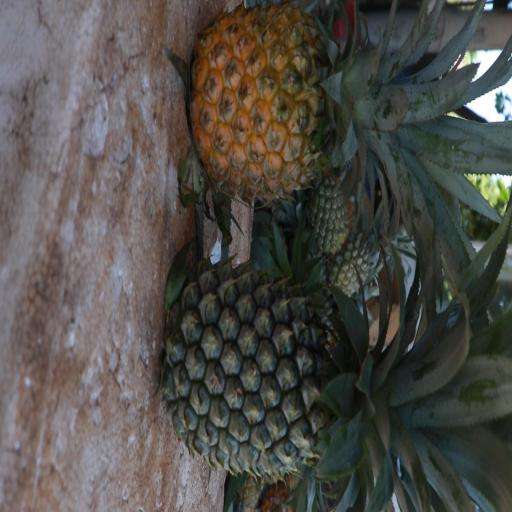Pineapple - v8 v1: (197, 9, 473, 193)
